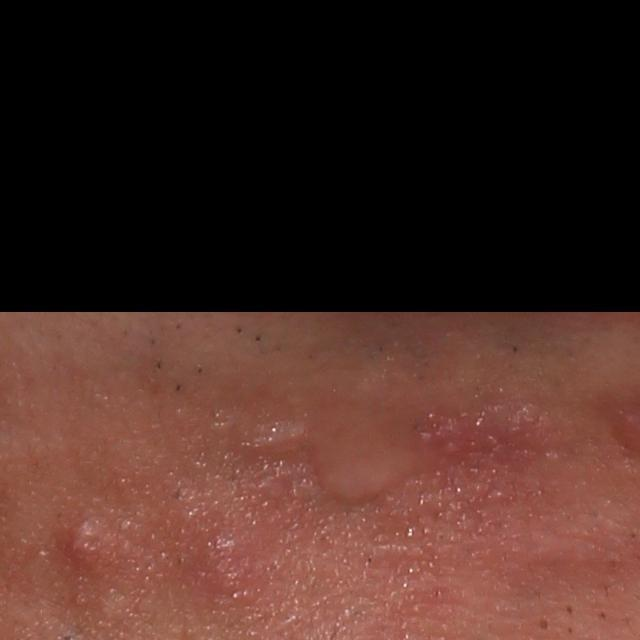comedo: (533, 615, 555, 635)
hypertrophic_scar: (243, 423, 313, 455)
papule: (191, 532, 258, 606), (62, 507, 111, 568)
